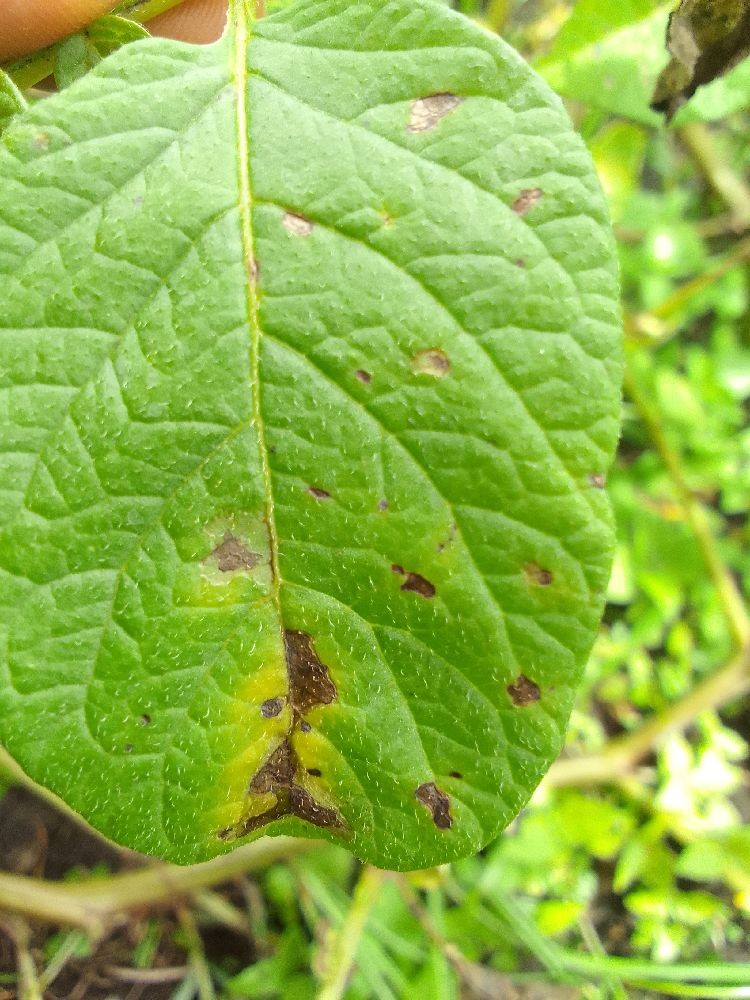late_blight: (0, 612, 362, 999), (0, 0, 164, 113), (638, 0, 750, 136), (130, 0, 239, 55)
